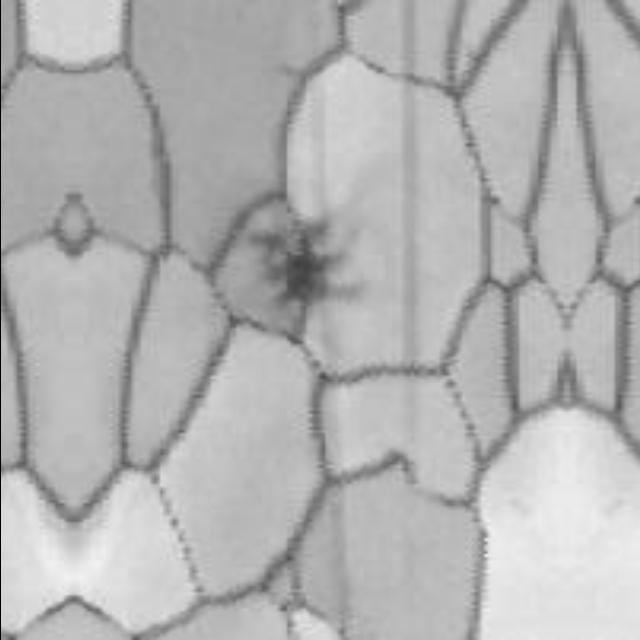good_void: (250, 212, 366, 309)
